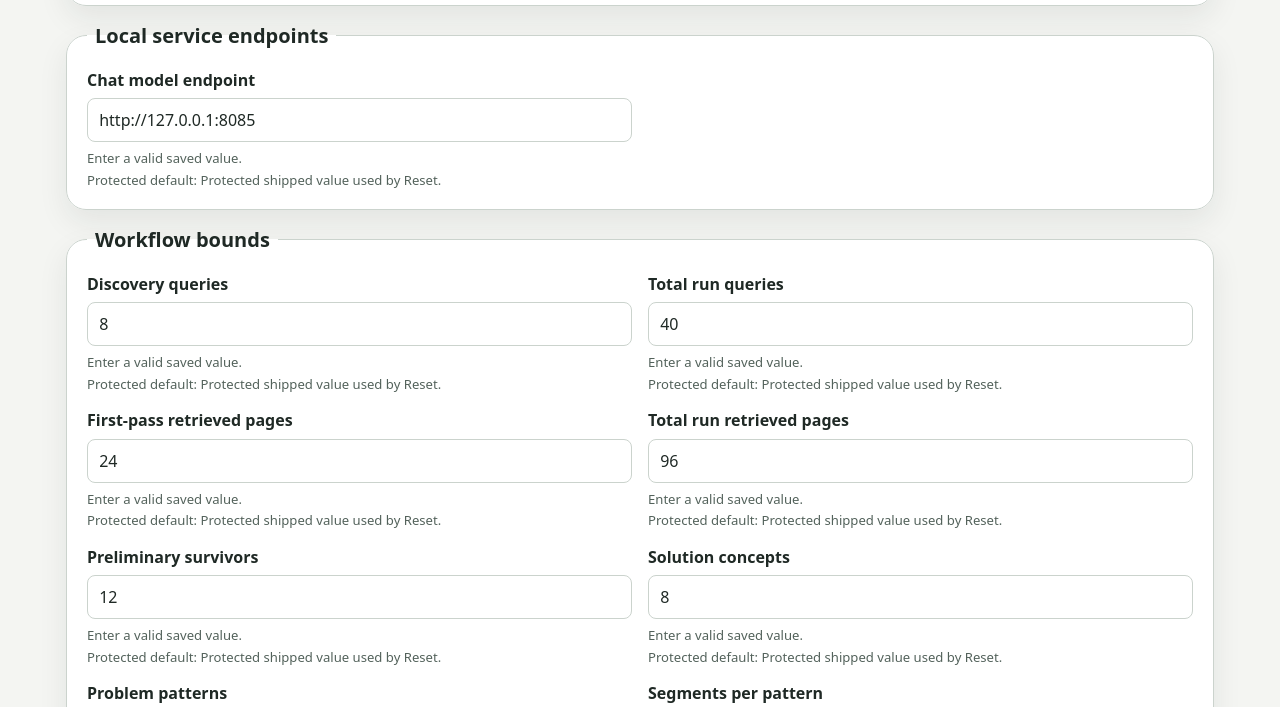
Test: SettingsView › explains and focuses cross-field workflow relationship errors
(page scrolled)
Replace the text in the number field labelled "Total run queries" with "1": (920, 324) left=648, top=302, right=1193, bottom=346
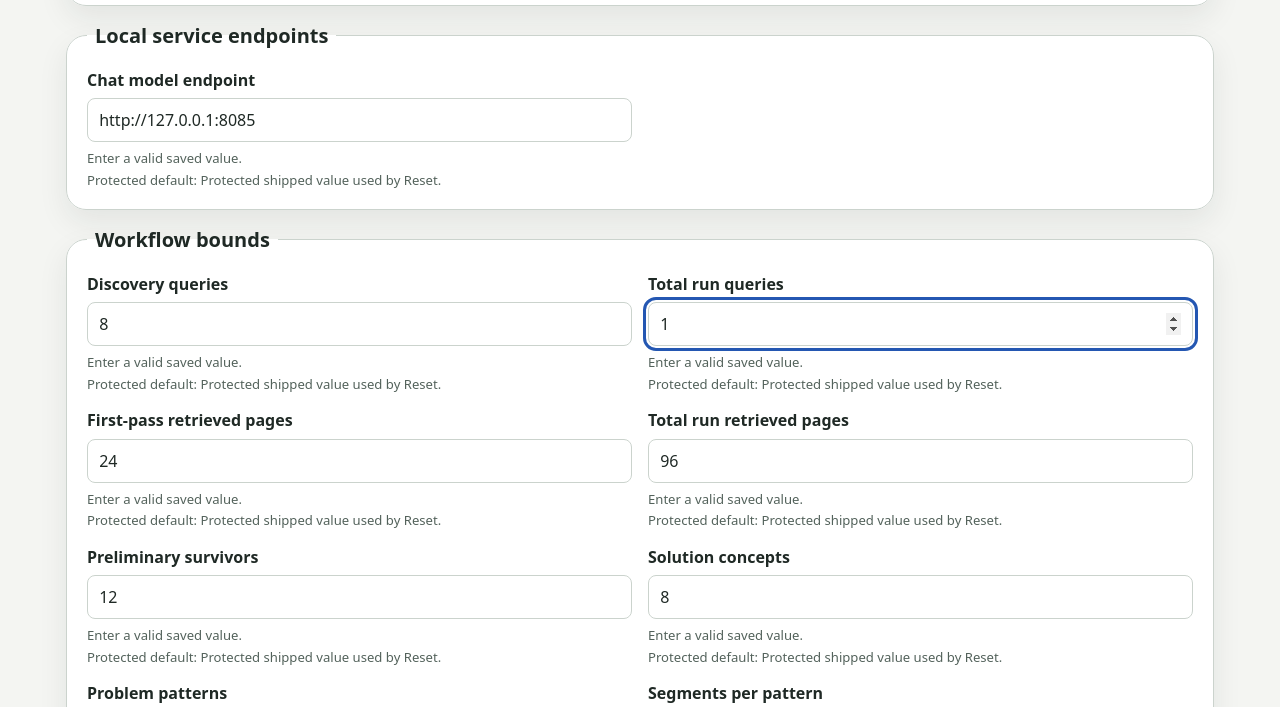
Replace the text in the number field labelled "Total run retrieved pages" with "1": (920, 461) left=648, top=439, right=1193, bottom=483
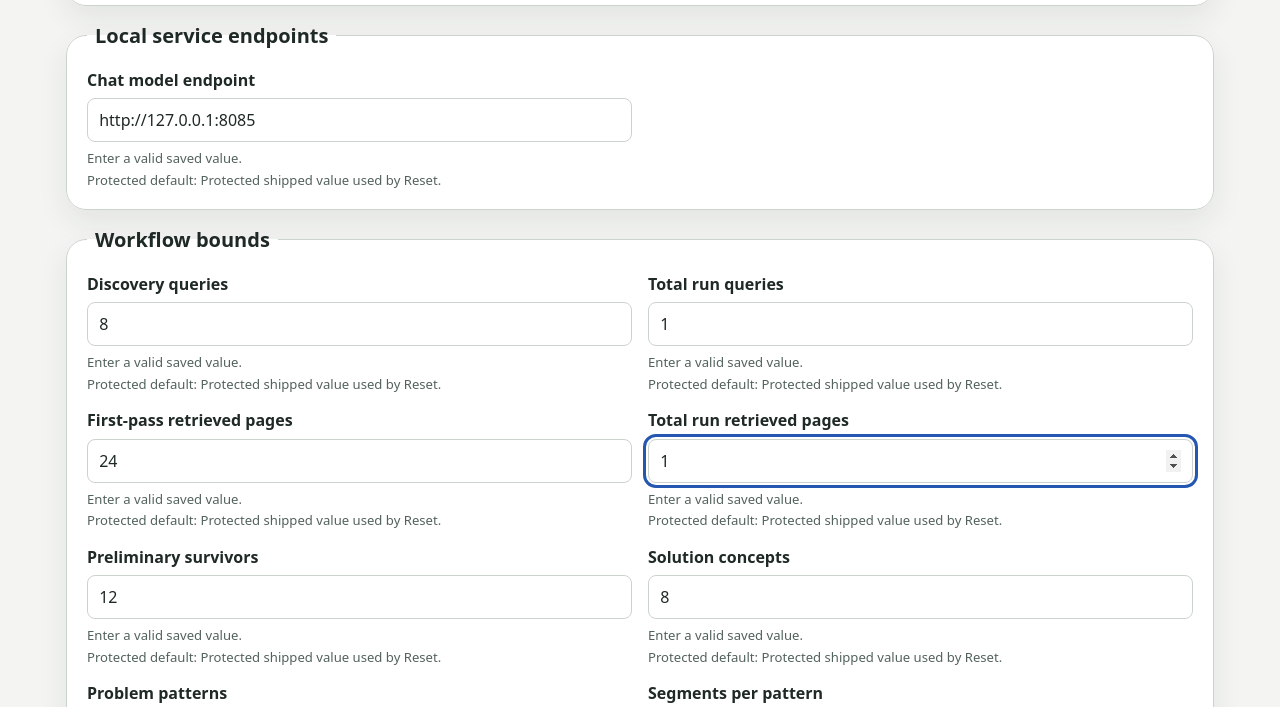
Replace the text in the number field labelled "Solution concepts" with "1": (920, 597) left=648, top=575, right=1193, bottom=619
(page scrolled)
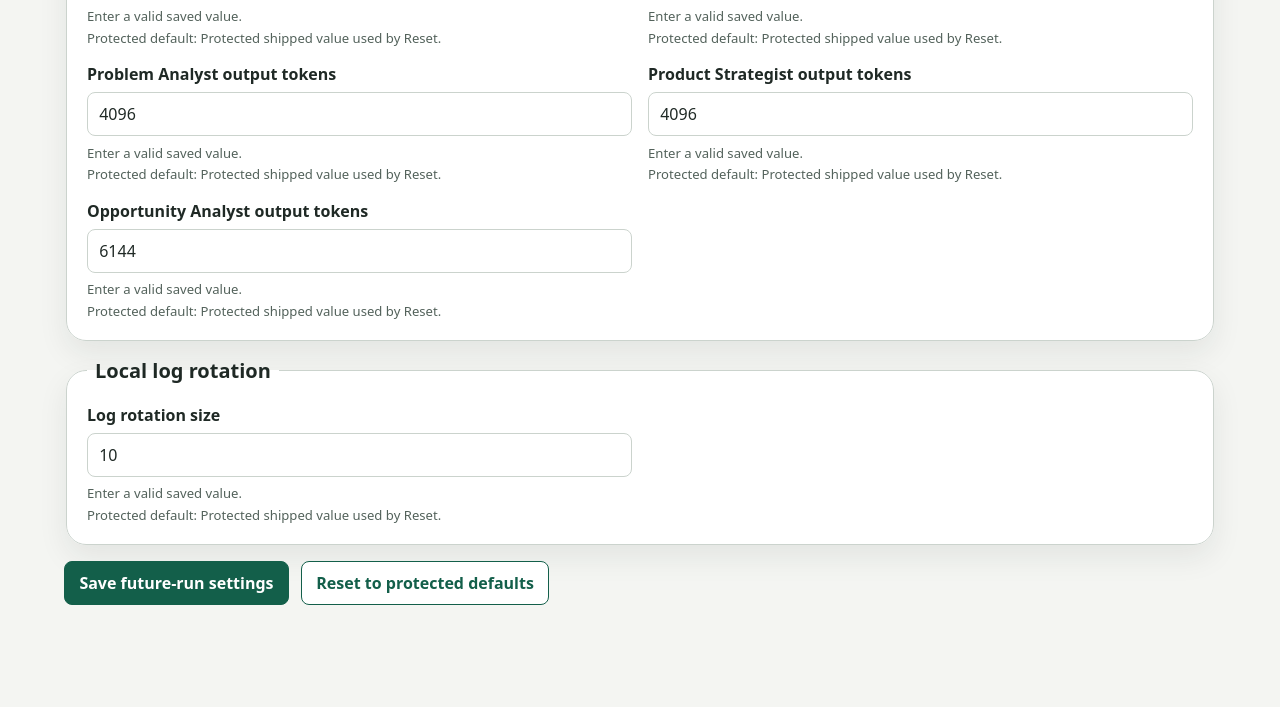
Click the button "Save future-run settings": (176, 583) left=64, top=561, right=289, bottom=605
(page scrolled)
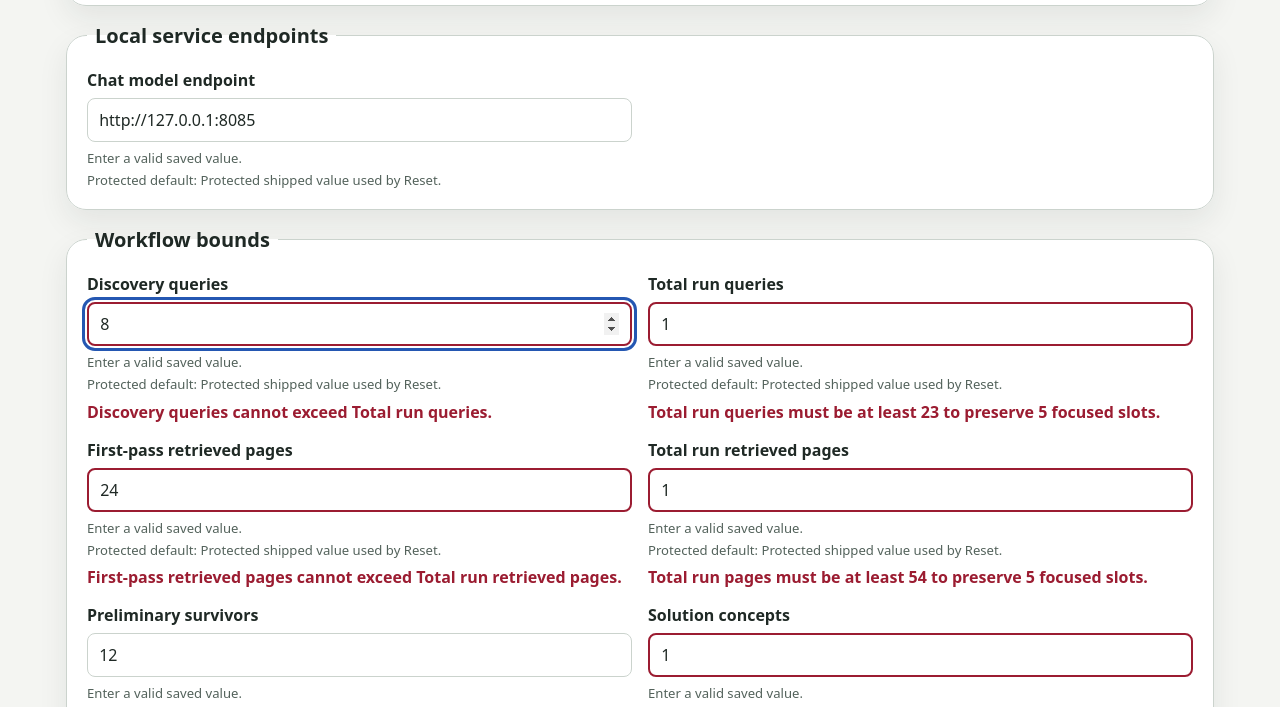
Now the text "Discovery queries cannot exceed Total run queries." is shown, box left=87, top=401, right=492, bottom=423
Now the text "First-pass retrieved pages cannot exceed Total run retrieved pages." is shown, box left=87, top=566, right=632, bottom=588
